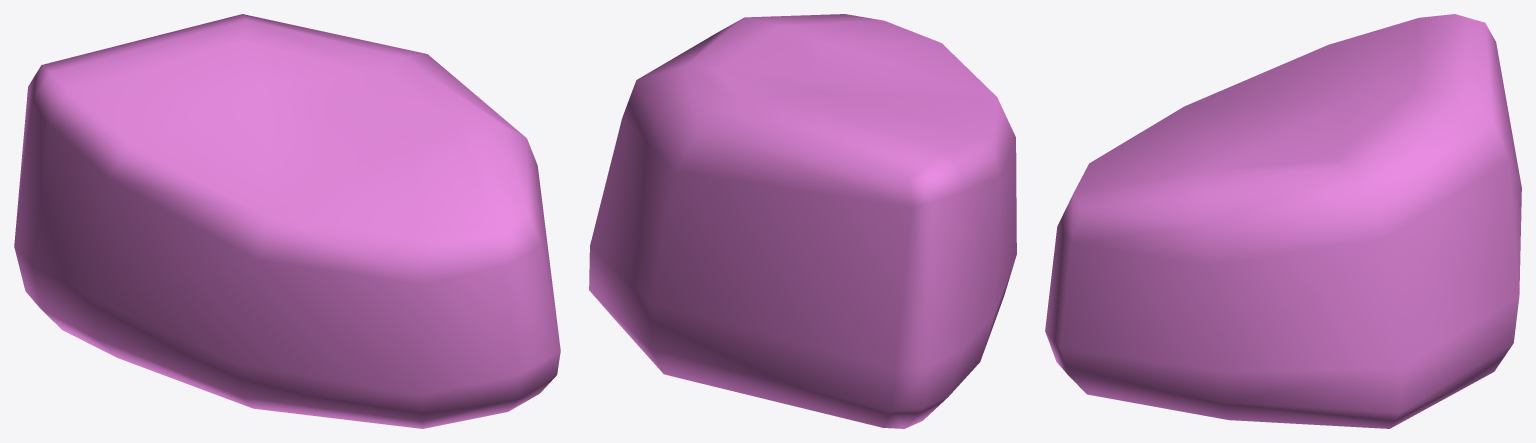
Rendered from prop_rock_small_01.fbx.
3 renders of one model, left to right at view 1: azimuth 30°, elevation 25°; view 2: azimuth 150°, elevation 25°; view 3: azimuth 270°, elevation 25°, orthographic. The views are drawn at different scales.
Visible parts, largest first — view 1: RockSmall1_low; view 2: RockSmall1_low; view 3: RockSmall1_low.
Boxes of the visible parts, x1,y1,x2,y2 form: RockSmall1_low: (14, 14, 560, 428); RockSmall1_low: (589, 14, 1016, 428); RockSmall1_low: (1045, 14, 1521, 428).
Bounding box in the file's own units: 3.55 × 2.47 × 3.86.
